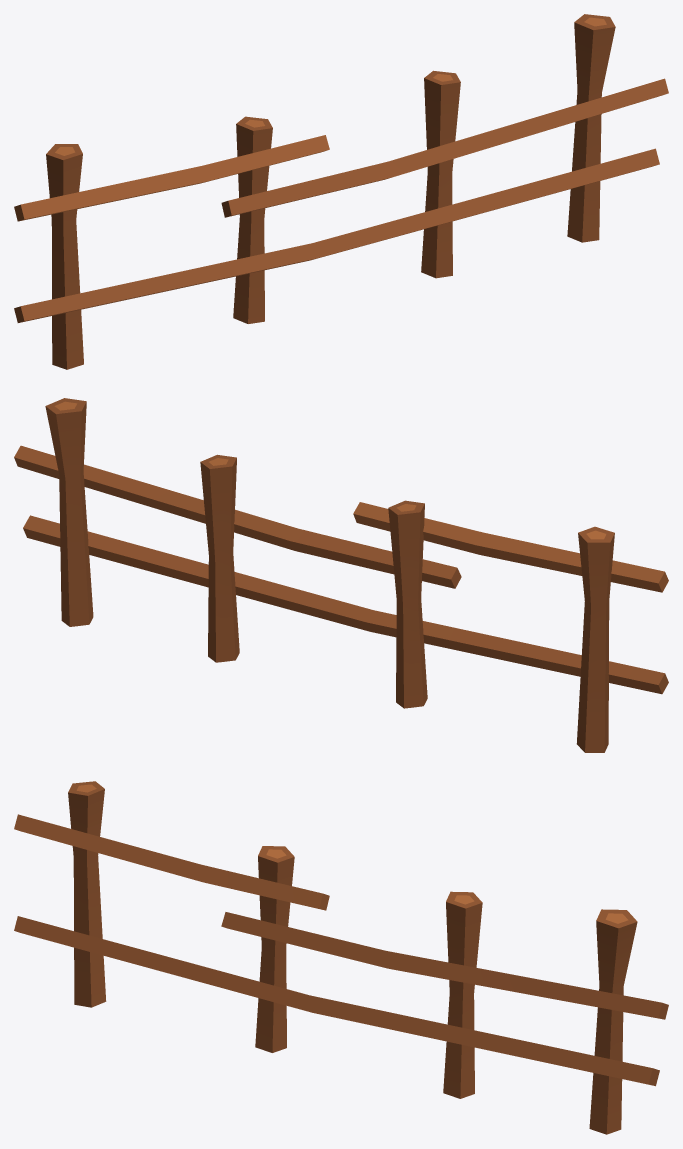
File: Build_Fence01.FBX
3 renders of one model, top to bottom at view 1: azimuth 30°, elevation 25°; view 2: azimuth 150°, elevation 25°; view 3: azimuth 330°, elevation 25°, orthographic.
Parts seen in each view (by area): view 1: Build_Fence01; view 2: Build_Fence01; view 3: Build_Fence01.
Boxes of the visible parts, x1,y1,x2,y2 form: Build_Fence01: (14, 14, 668, 369); Build_Fence01: (14, 398, 668, 752); Build_Fence01: (14, 781, 668, 1134).
Bounding box in the file's own units: 300 × 97.34 × 21.71.
Materials: 1 (1 with a texture image).
